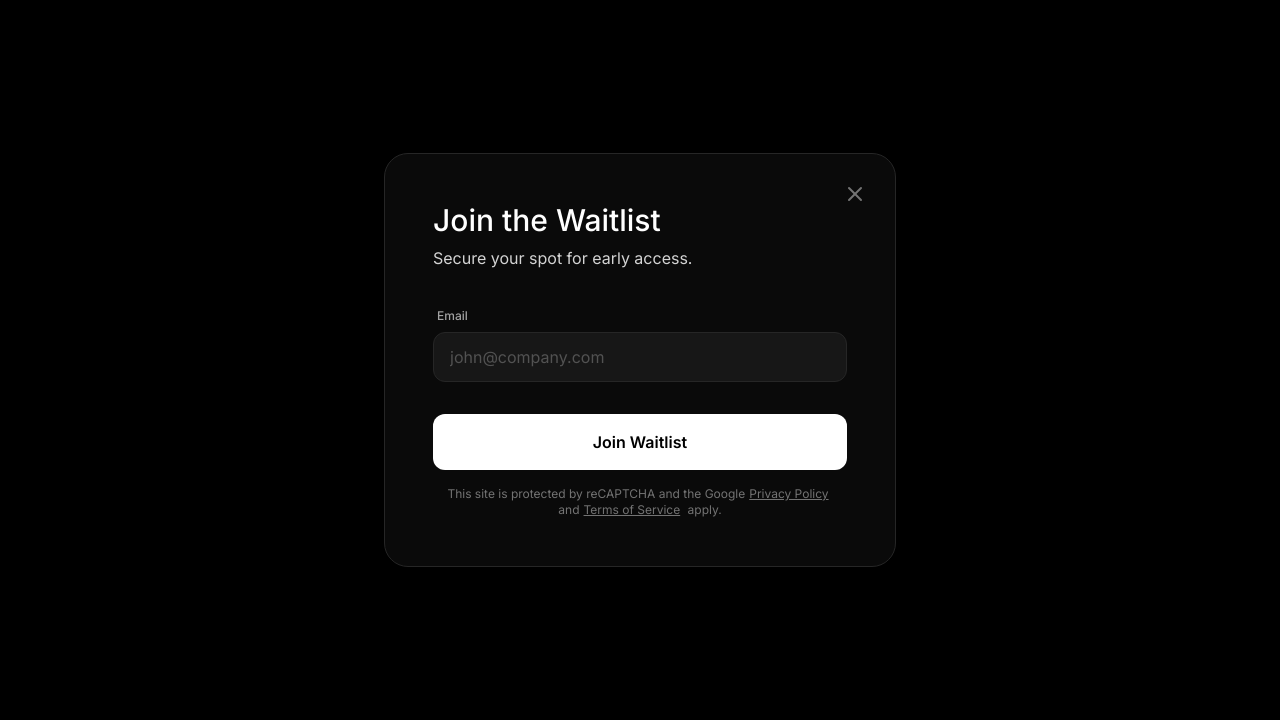
Test: Waitlist Modal Tests › Success State Tests › TC-SUCC-001: Verify success state appears after successful submission › should show success state
In the field labelled "Email": (640, 357) x1=433 y1=332 x2=847 y2=382, type "test@example.com"
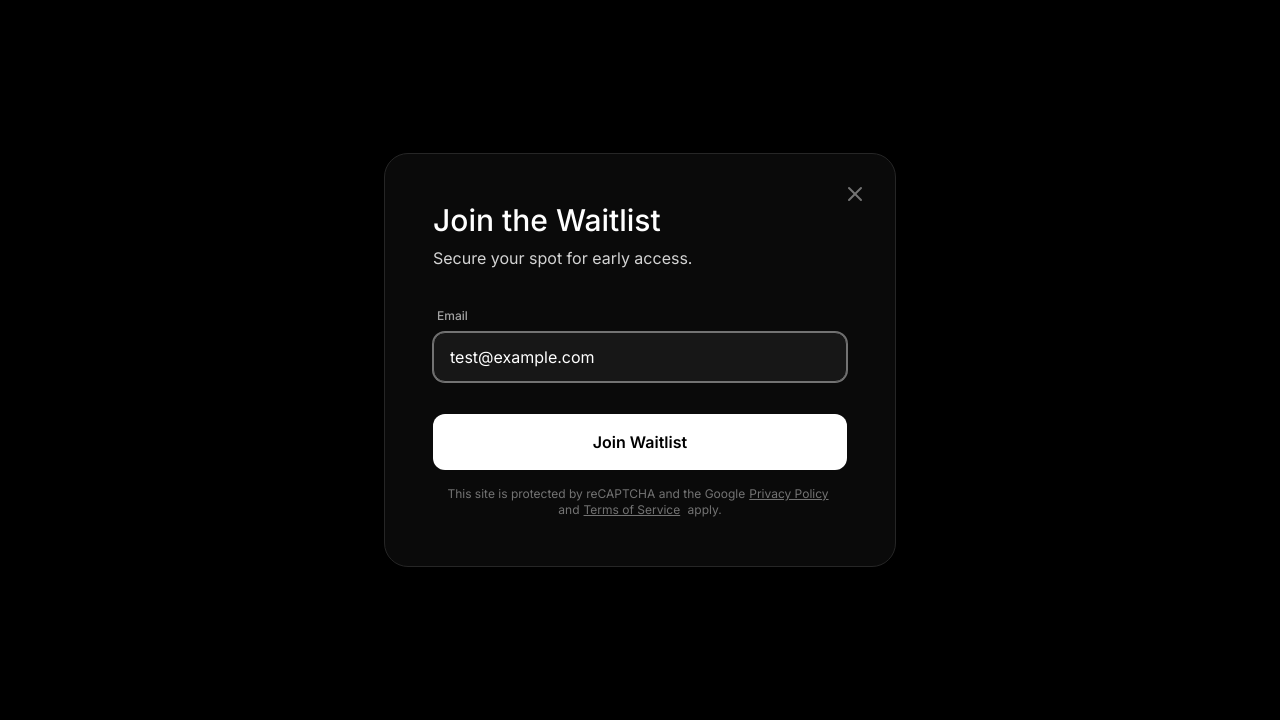
Click the button "Join Waitlist": (640, 442) x1=433 y1=414 x2=847 y2=470
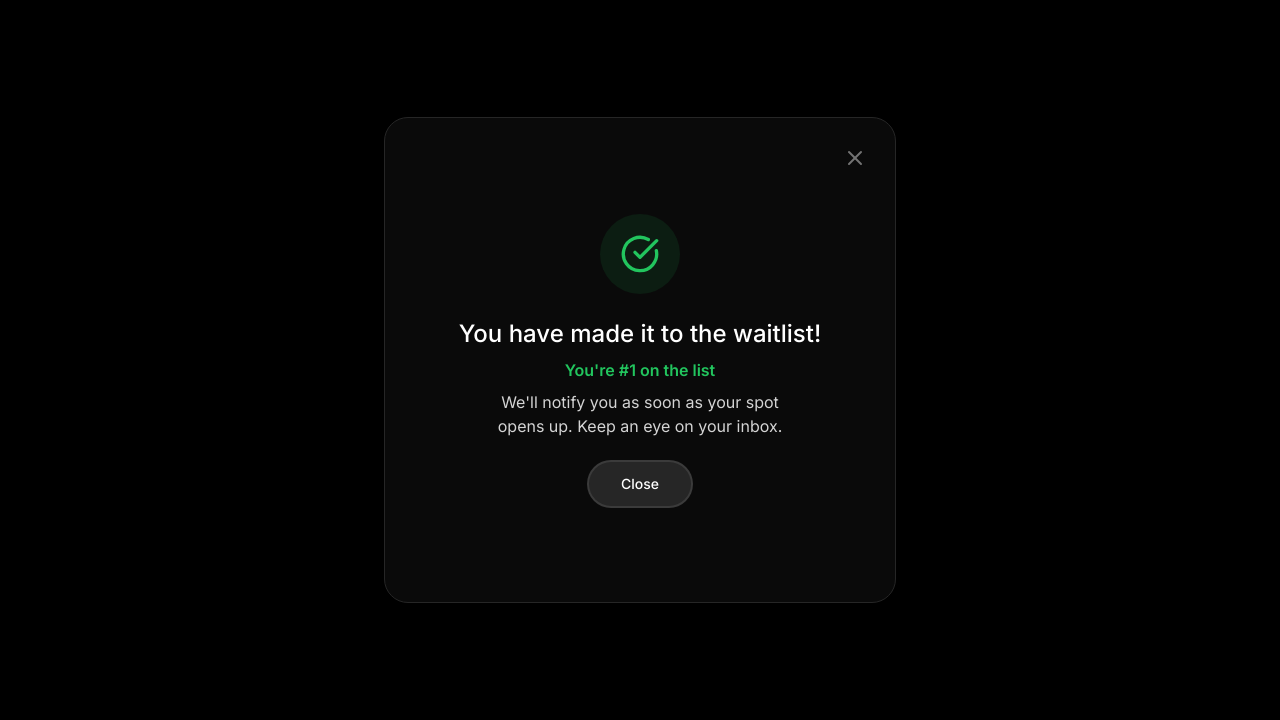
Expected: the heading "You have made it to the waitlist!" is shown, x1=433 y1=318 x2=847 y2=350
